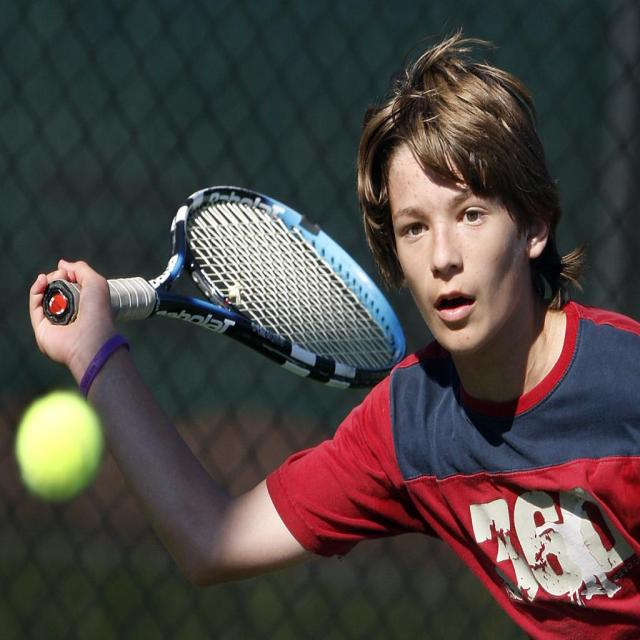Face: (384, 101, 538, 380)
